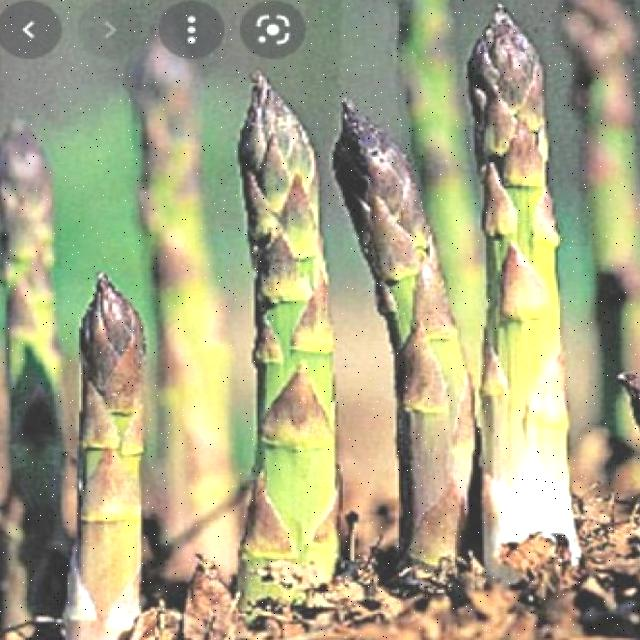aspargus: (236, 72, 357, 633)
